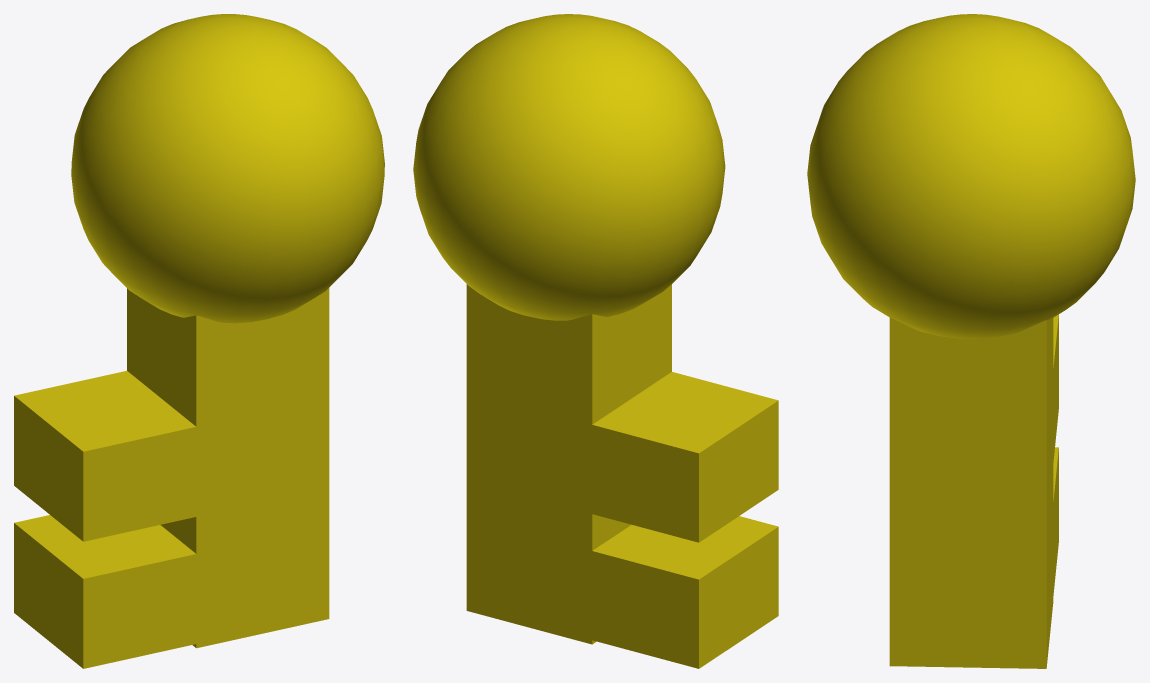
Rendered from key.obj.
The picture shows the model from 3 angles, left to right: view 1: azimuth 30°, elevation 25°; view 2: azimuth 150°, elevation 25°; view 3: azimuth 270°, elevation 25°; orthographic projection. The views are drawn at different scales.
Parts seen in each view (by area): view 1: 球; view 2: 球; view 3: 球.
Boxes of the visible parts, left/top/right/bottom form: 球: left=14, top=14, right=384, bottom=668; 球: left=413, top=14, right=778, bottom=668; 球: left=807, top=14, right=1135, bottom=668.
Size of the model in its own units: 0.8347 by 1.46 by 0.7209.
1 material, 1 textured.
